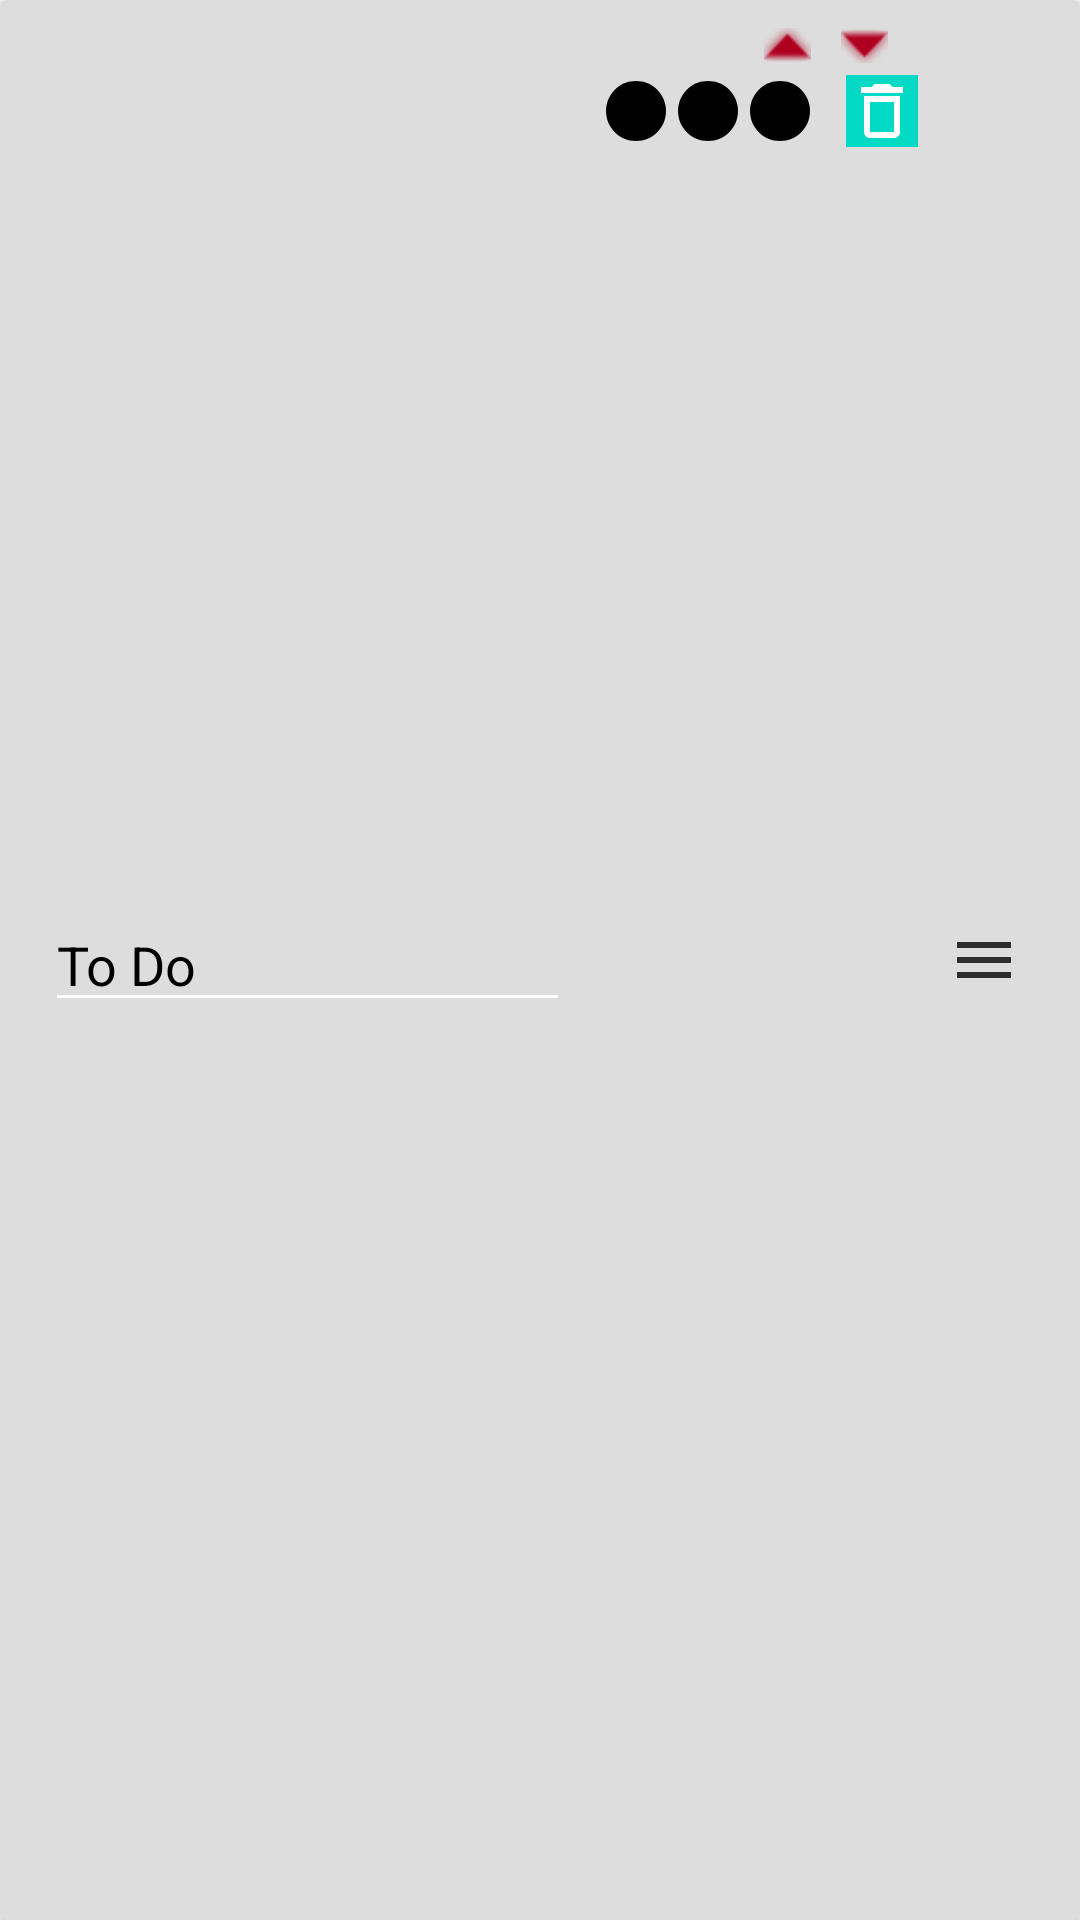

Icons on this 1080×1920 Android screen, each with its box as (x1, y1, x2, y2):
arrow down float: (841, 30, 888, 61)
arrow up float: (764, 30, 811, 61)
hamburger menu bottom bar: (957, 942, 1011, 978)
trash: (846, 75, 918, 147)
